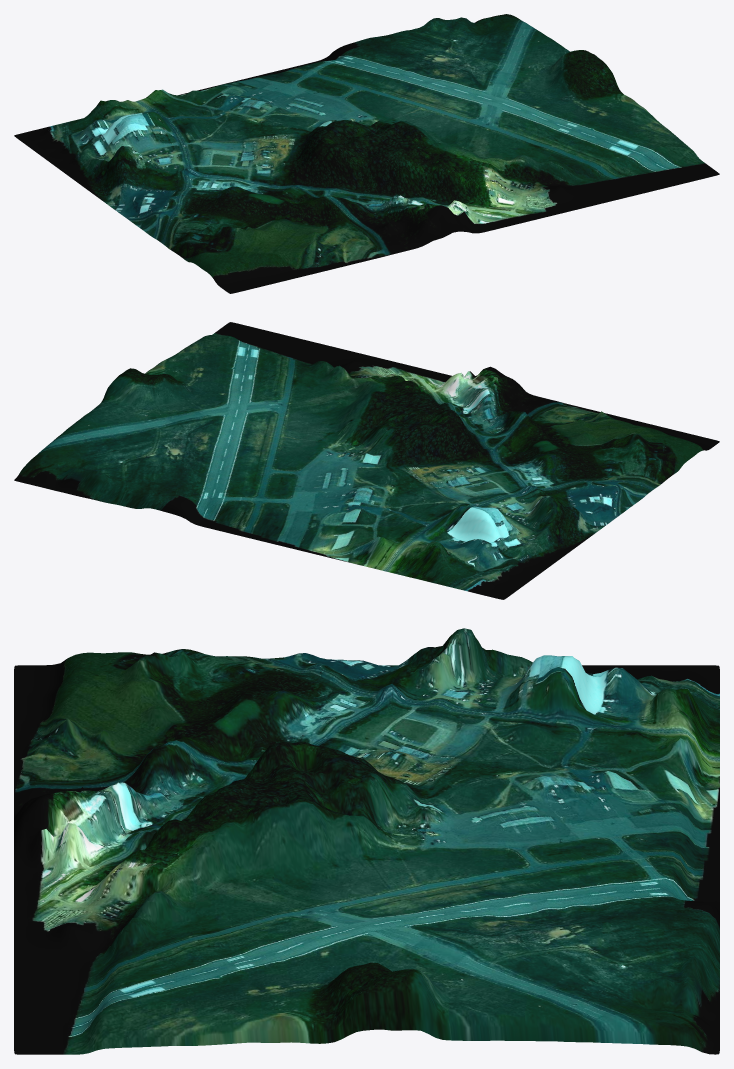
The model's file is outdoor_terrain.dae.
3 renders of one model, top to bottom at view 1: azimuth 30°, elevation 25°; view 2: azimuth 150°, elevation 25°; view 3: azimuth 270°, elevation 25°, orthographic. The views are drawn at different scales.
Parts seen in each view (by area): view 1: Grid; view 2: Grid; view 3: Grid.
Boxes of the visible parts, <box> form: Grid: <box>14,14,719,293</box>; Grid: <box>14,322,719,599</box>; Grid: <box>14,628,719,1054</box>.
Size of the model in its own units: 819 by 627 by 70.
1 material, 1 textured.
